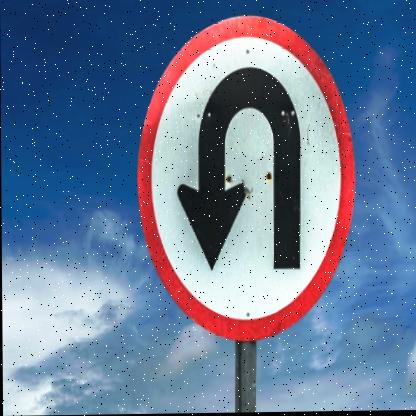U-turn: (136, 16, 361, 344)
